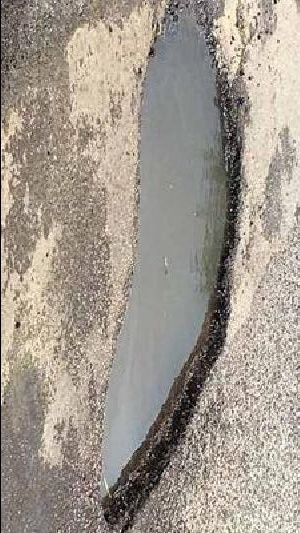pothole: (94, 0, 244, 528)
